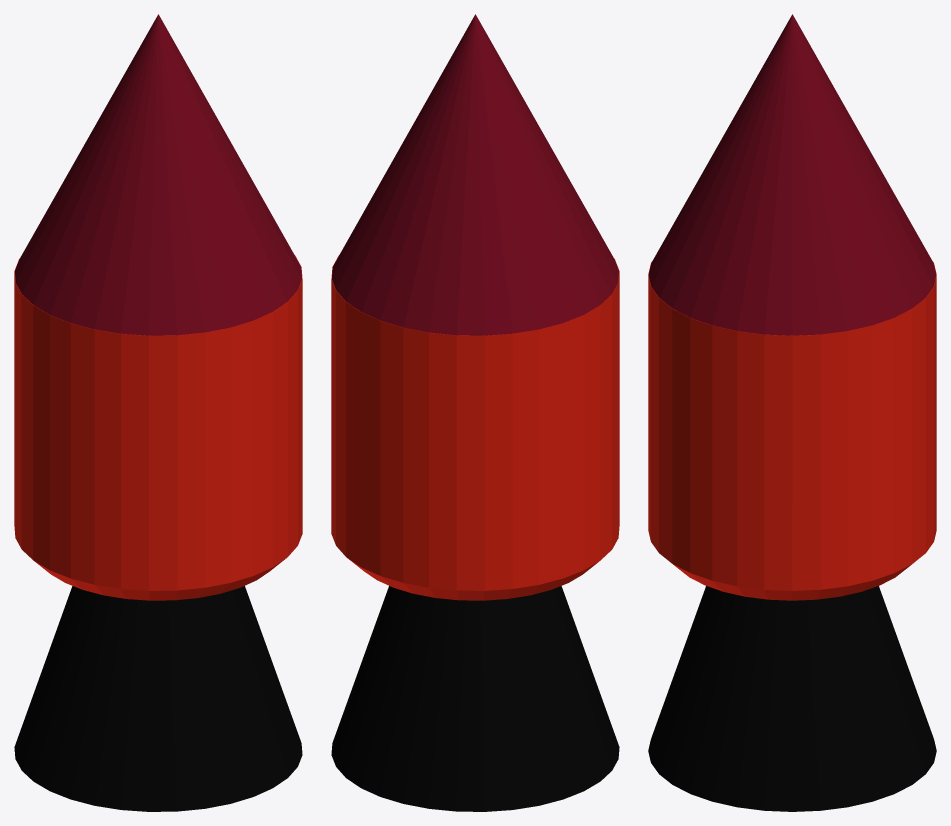
The model's file is Rocket.fbx.
The picture shows the model from 3 angles, left to right: view 1: azimuth 30°, elevation 25°; view 2: azimuth 150°, elevation 25°; view 3: azimuth 270°, elevation 25°; orthographic projection.
Parts seen in each view (by area): view 1: Cylinder, Cone, Cylinder.001; view 2: Cylinder, Cone, Cylinder.001; view 3: Cylinder, Cone, Cylinder.001.
Boxes of the visible parts, x1,y1,x2,y2 form: Cylinder: [14, 255, 302, 600]; Cone: [15, 14, 301, 335]; Cylinder.001: [14, 586, 302, 811]; Cylinder: [331, 255, 619, 600]; Cone: [332, 14, 618, 335]; Cylinder.001: [331, 586, 619, 811]; Cylinder: [648, 262, 936, 600]; Cone: [648, 14, 936, 335]; Cylinder.001: [648, 586, 936, 811].
Bounding box in the file's own units: 200 × 563 × 200.
